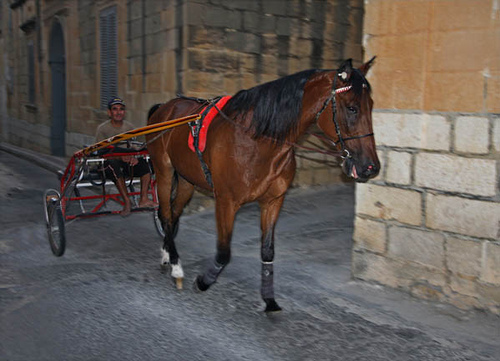horse: (144, 57, 382, 317)
